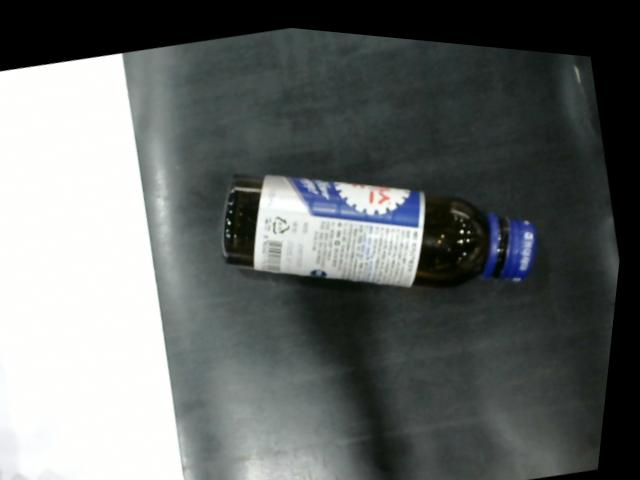glass: (219, 167, 542, 291)
